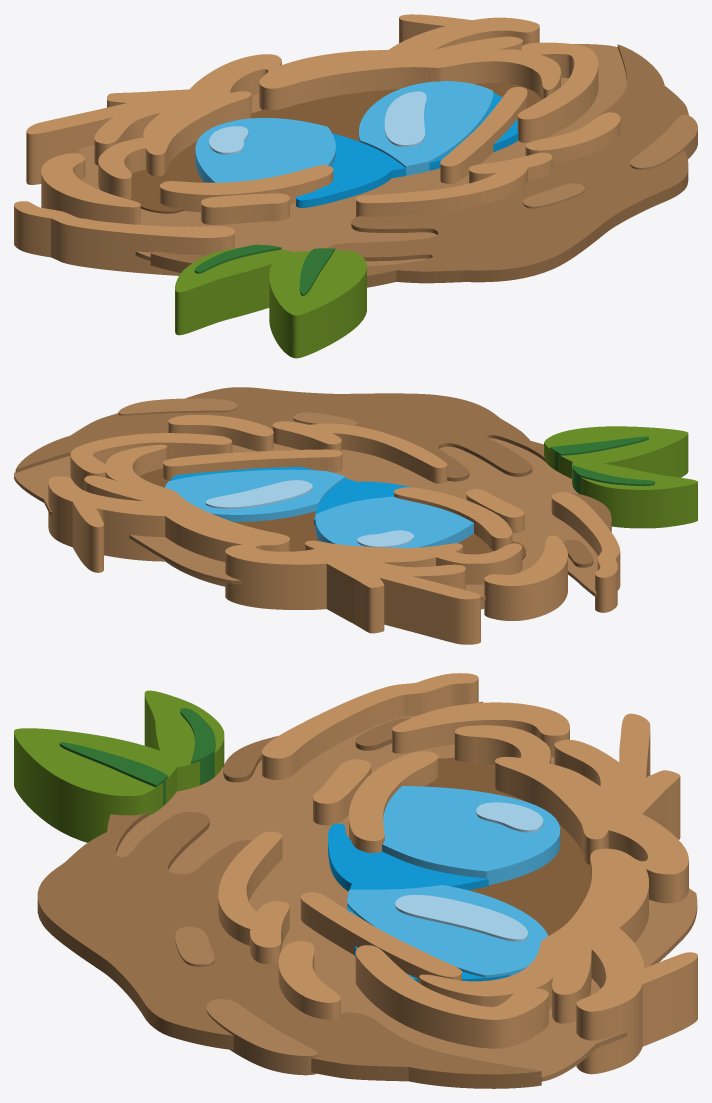
The model's file is emoji_u1faba.glb.
3 renders of one model, top to bottom at view 1: azimuth 30°, elevation 25°; view 2: azimuth 150°, elevation 25°; view 3: azimuth 270°, elevation 25°, orthographic. The views are drawn at different scales.
Visible parts, largest first — view 1: emoji_u1faba; view 2: emoji_u1faba; view 3: emoji_u1faba.
Boxes of the visible parts, x1=… form: emoji_u1faba: x1=14, y1=14, x2=697, y2=358; emoji_u1faba: x1=14, y1=387, x2=697, y2=644; emoji_u1faba: x1=14, y1=673, x2=697, y2=1088.
Size of the model in its own units: 0.0343 by 0.0026 by 0.0258.
